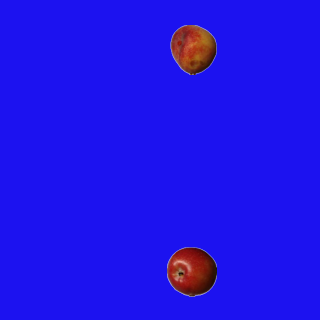Apple Braeburn: (166, 246, 216, 296)
Peach: (168, 24, 218, 74)
